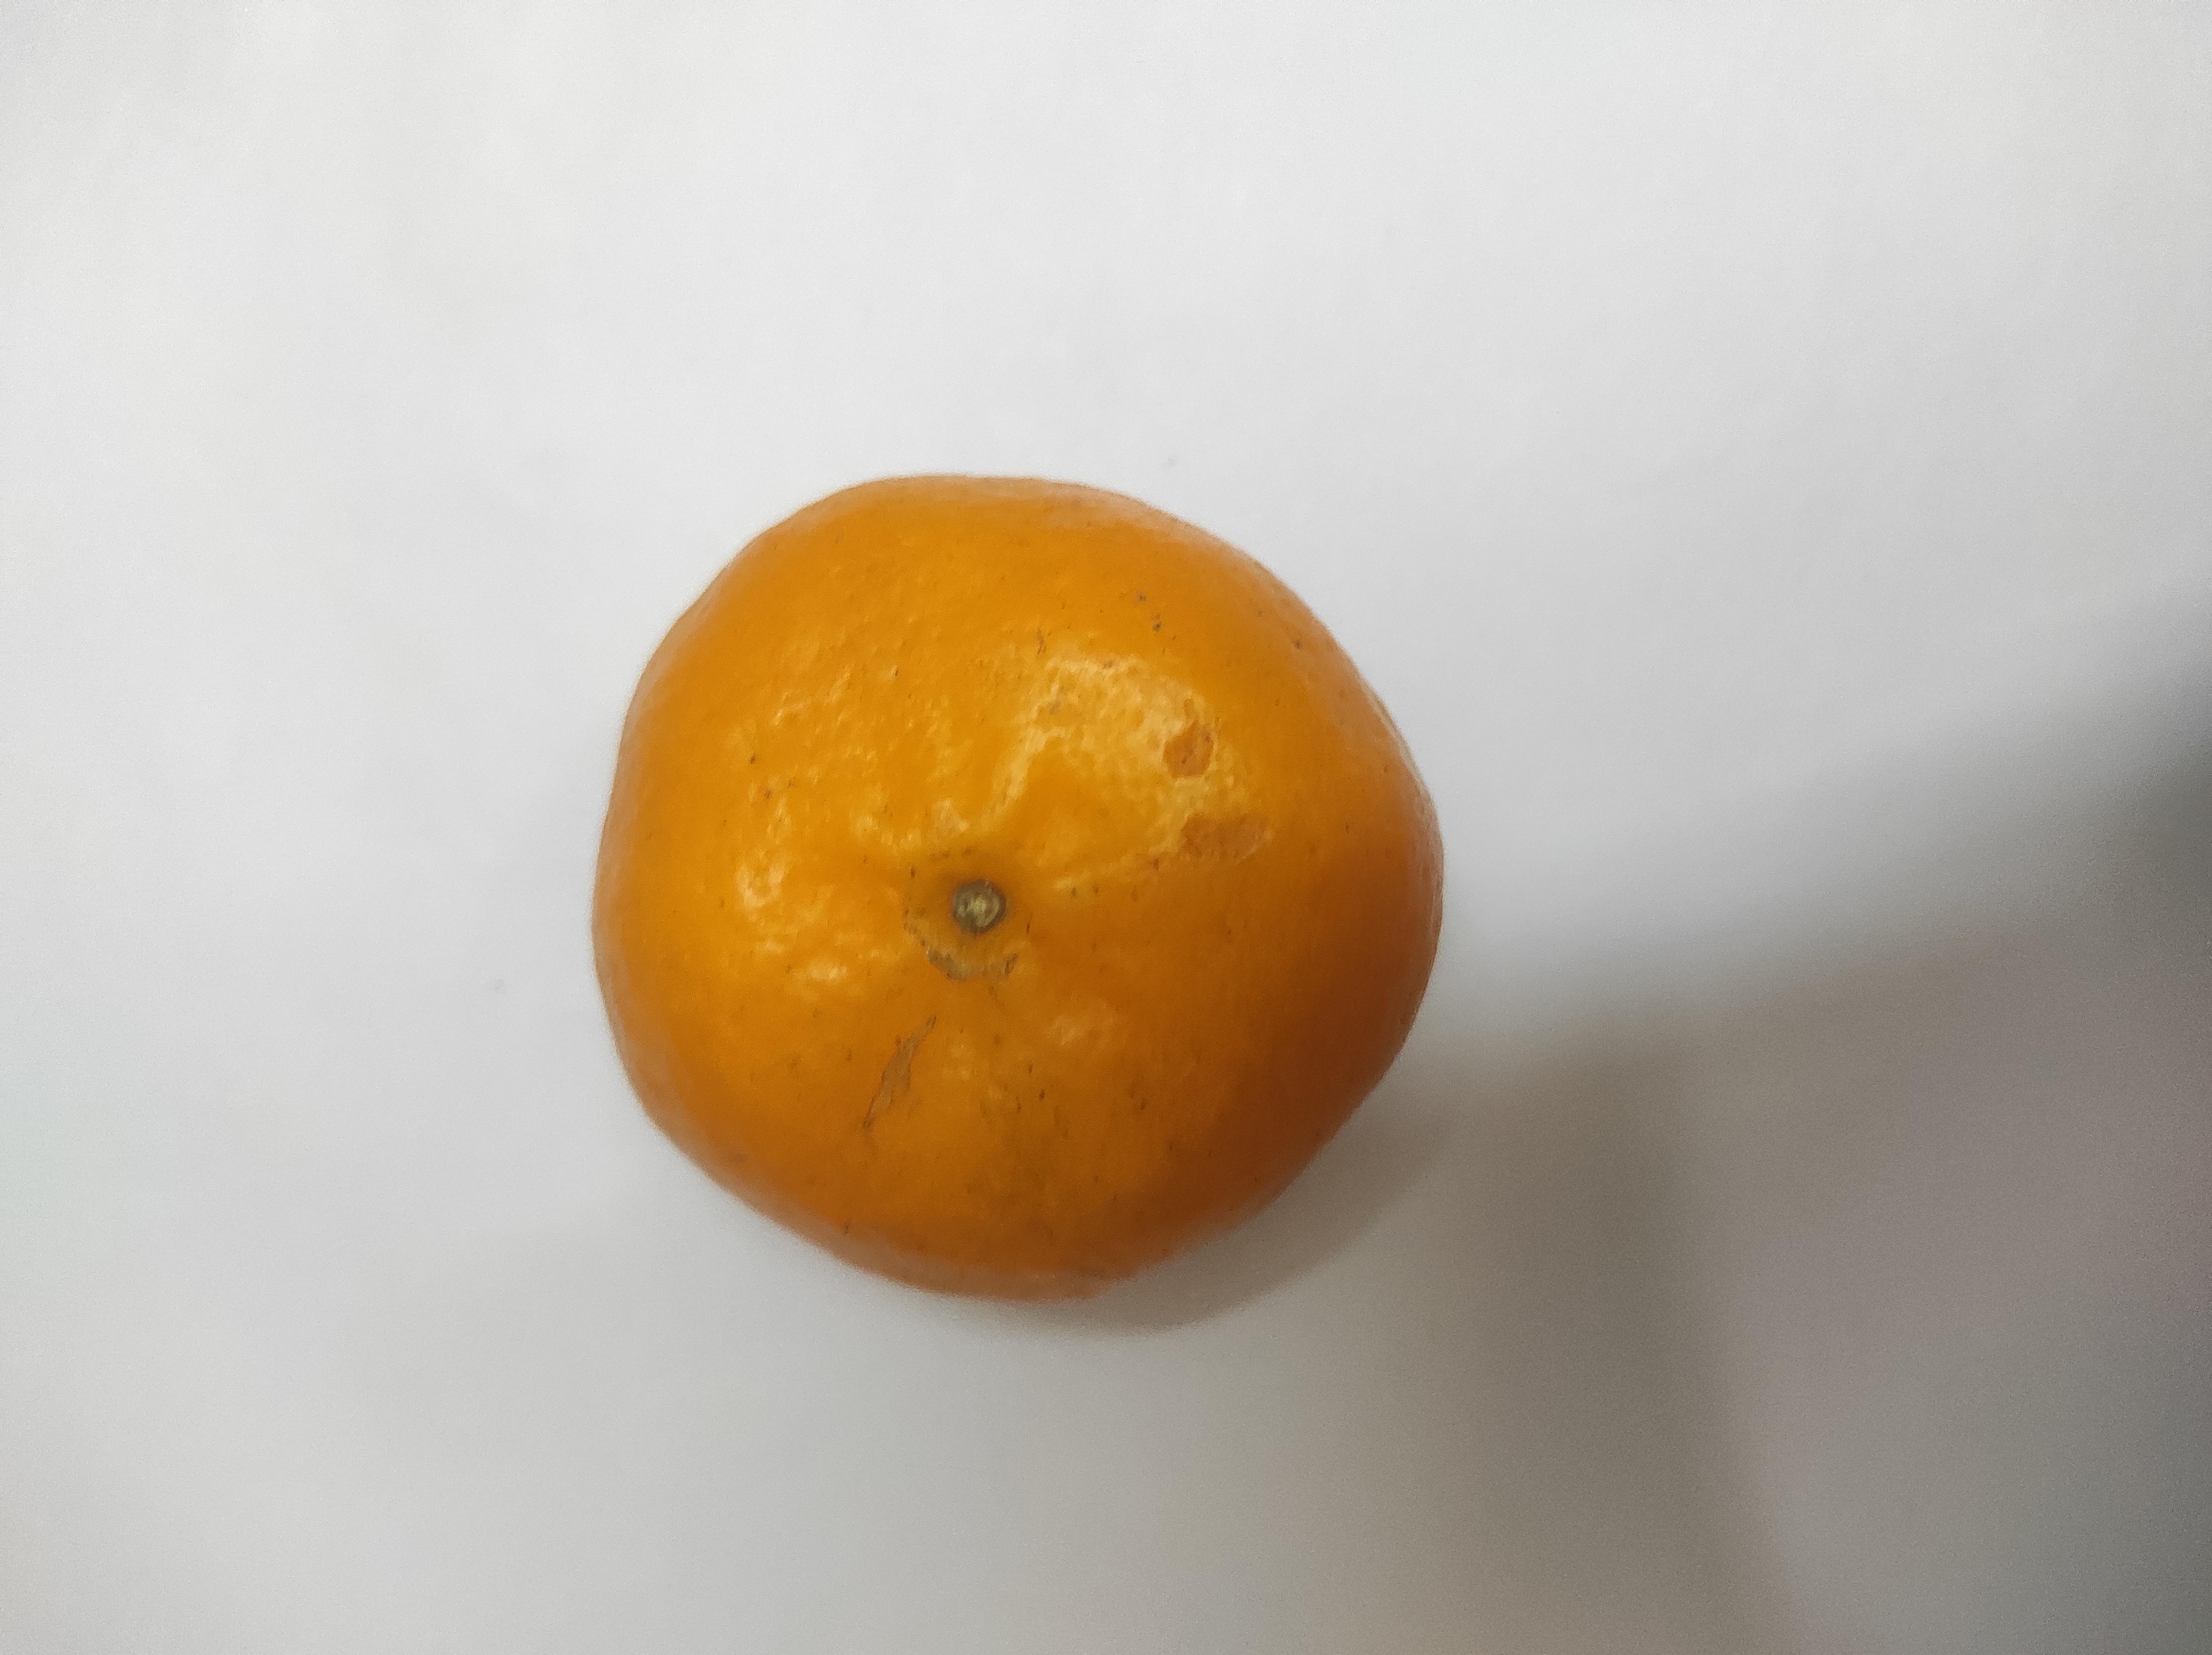Ripe: (596, 468, 1435, 1306)
